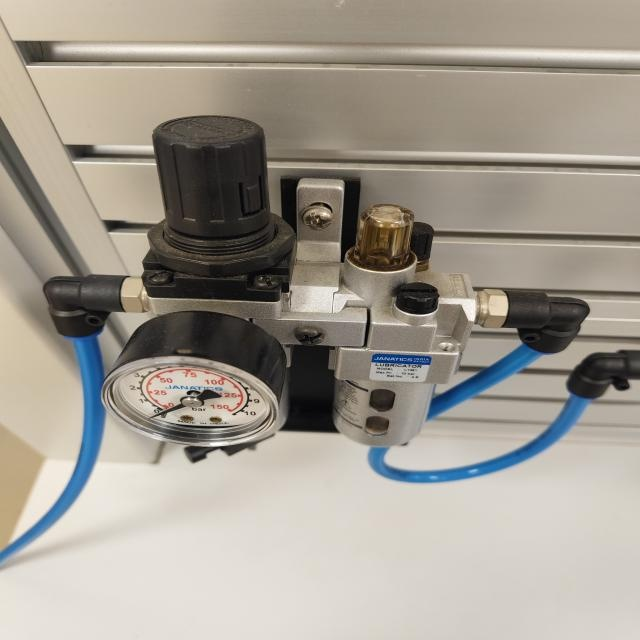FRL unit: (38, 107, 508, 488)
